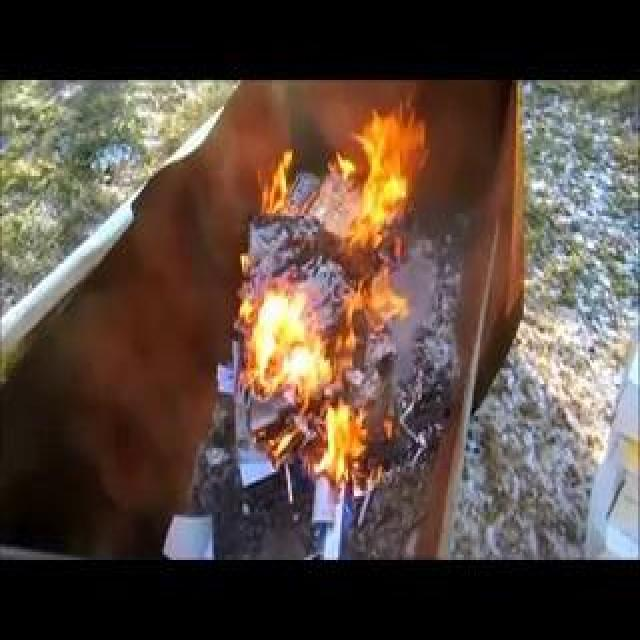Fire: (236, 306, 351, 408)
